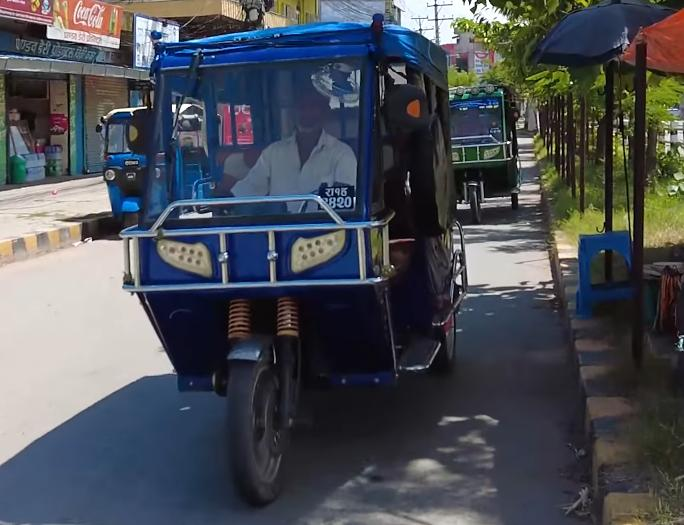auto_rickshaw: (100, 103, 151, 239)
e-rickshaw: (130, 9, 468, 505), (442, 72, 531, 233)
